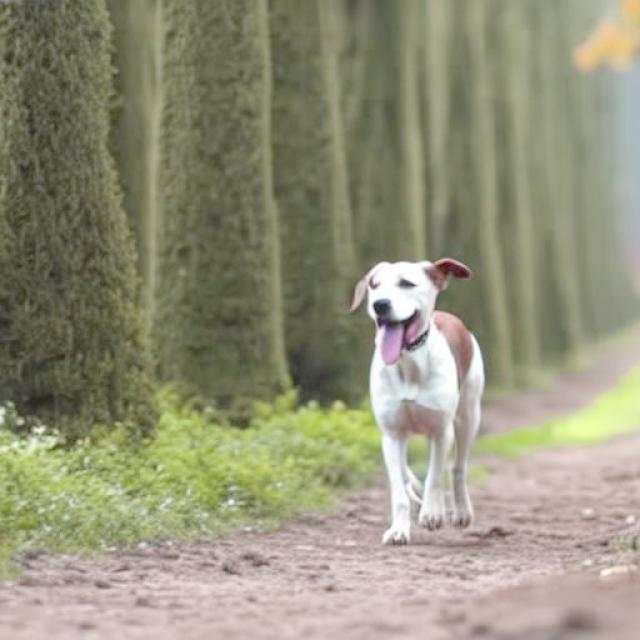Dog: (348, 256, 486, 546)
